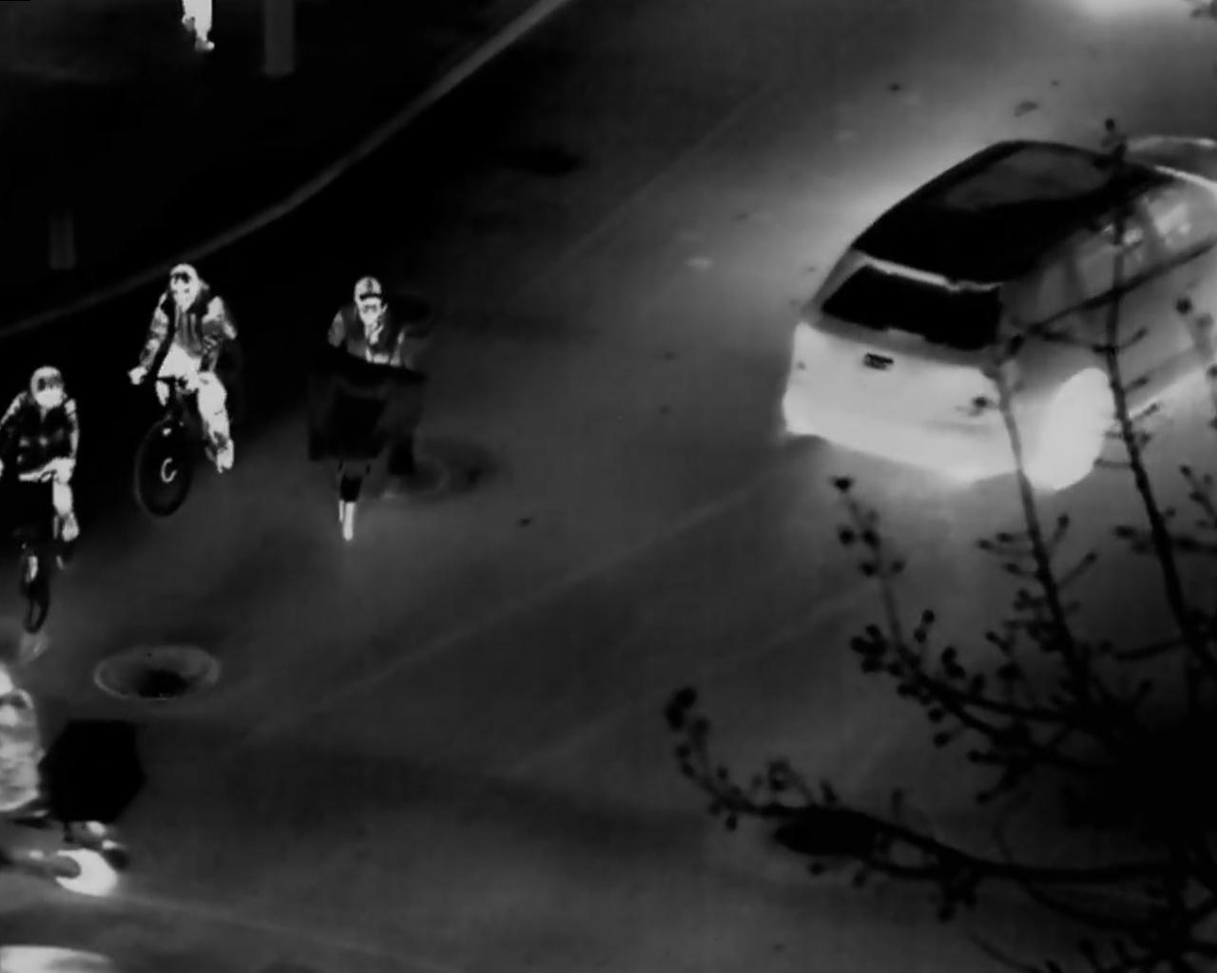person: (128, 263, 238, 472), (2, 366, 78, 545), (323, 277, 401, 373)
